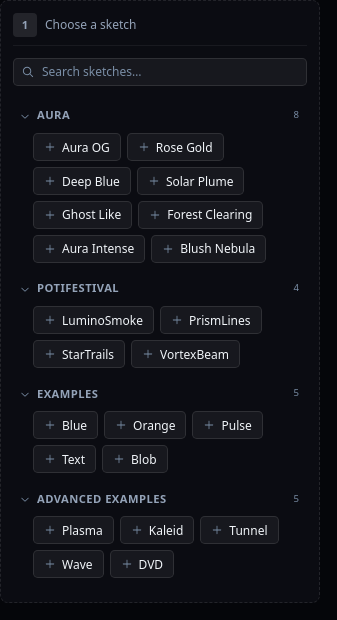
SlotColumn › search functionality › shows search results count
In the field with placeholder "Search sketches…": {"x": 160, "y": 72} [13,58,307,86], type "Cube"
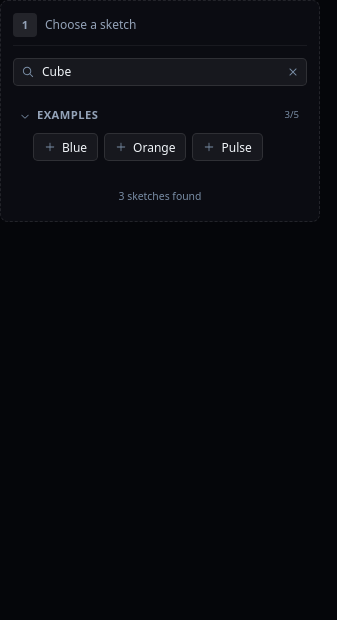
Now the text "3 sketches found" is shown, box [119,189,201,203]
